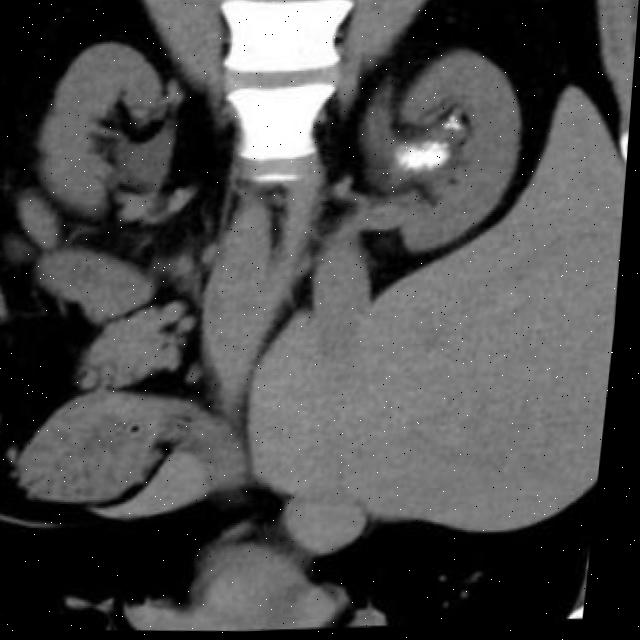Tas_Var: (391, 143, 458, 179), (443, 124, 454, 134), (454, 124, 463, 136), (450, 118, 460, 126), (433, 145, 441, 155), (445, 144, 453, 152), (444, 157, 451, 161)
